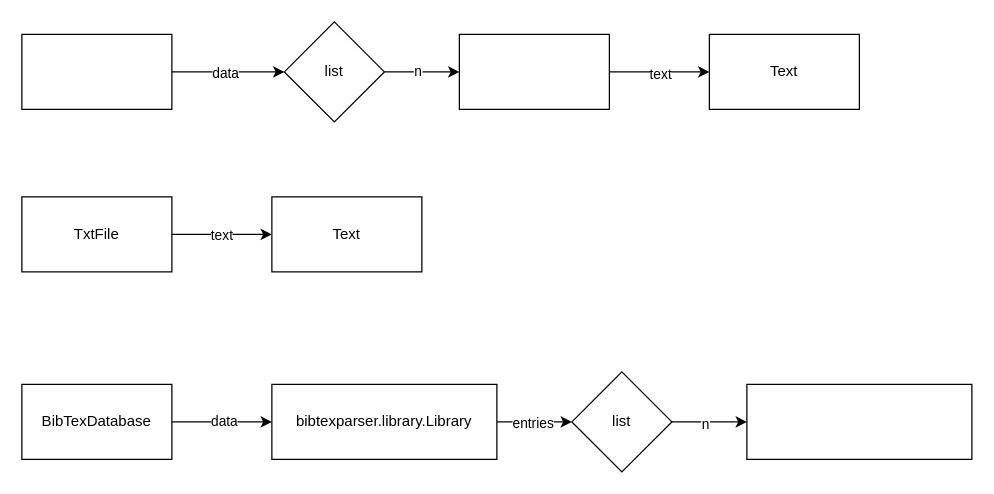
This 994x494 diagram has some shape labels left out. The box of each missing label's shape, as (x1, y1, x2, y2) in pixels:
bibtexparser.model.Entry: (746, 383, 972, 459)
PdfFile: (21, 33, 172, 109)
PdfPage: (458, 33, 609, 109)
